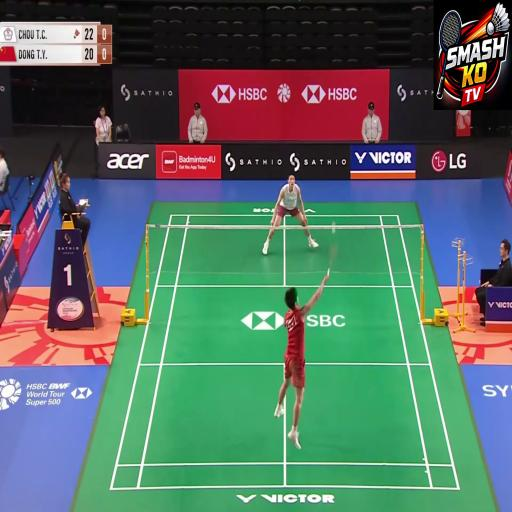player: (259, 275, 325, 469), (263, 154, 327, 264)
